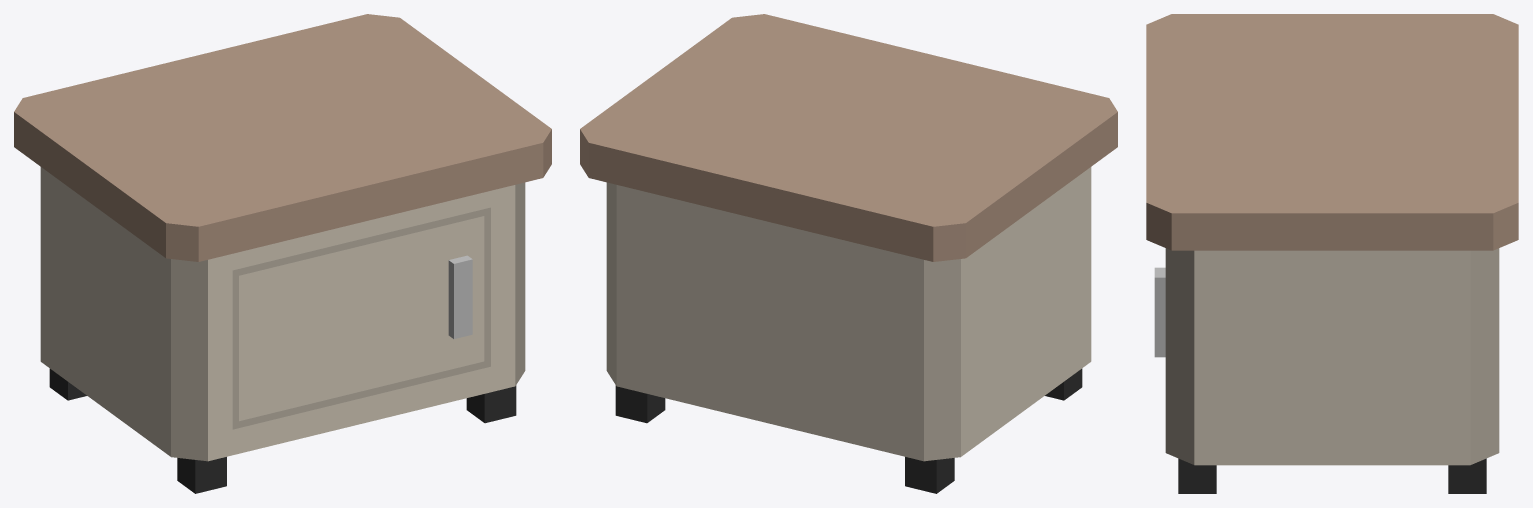
File: scene_coffeeTable.fbx
The picture shows the model from 3 angles, left to right: view 1: azimuth 30°, elevation 25°; view 2: azimuth 150°, elevation 25°; view 3: azimuth 270°, elevation 25°; orthographic projection. The views are drawn at different scales.
Parts seen in each view (by area): view 1: coffeeTable; view 2: coffeeTable; view 3: coffeeTable.
Part boxes in pixels (x1,y1,x2,y2): coffeeTable: (14, 14, 551, 493); coffeeTable: (580, 14, 1117, 493); coffeeTable: (1146, 14, 1518, 493).
Size of the model in its own units: 115 by 79.73 by 90.43.
